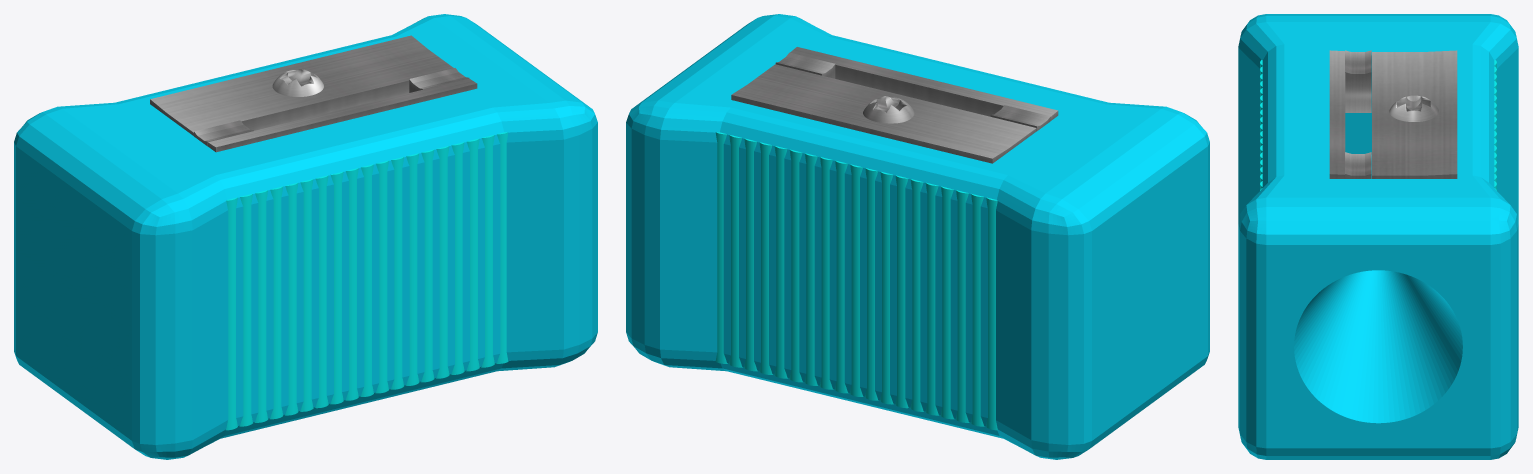
The model's file is sharpener.glb.
The picture shows the model from 3 angles, left to right: view 1: azimuth 30°, elevation 25°; view 2: azimuth 150°, elevation 25°; view 3: azimuth 270°, elevation 25°; orthographic projection. The views are drawn at different scales.
Parts seen in each view (by area): view 1: Roundcube.001, Cylinder.001, Cube, Sphere, Cube.002, Cube.001; view 2: Roundcube.001, Cylinder.002, Cube, Sphere, Cube.002, Cube.001; view 3: Roundcube.001, Cube, Cube.001, Sphere, Cube.002, Cylinder.001, Cylinder.002.
Part boxes in pixels (<box>): Roundcube.001: <box>14,14,597,459</box>; Cylinder.001: <box>226,132,508,430</box>; Cube: <box>150,35,477,152</box>; Sphere: <box>272,69,323,96</box>; Cube.002: <box>409,68,469,92</box>; Cube.001: <box>194,120,253,146</box>; Roundcube.001: <box>626,14,1209,459</box>; Cylinder.002: <box>715,132,997,430</box>; Cube: <box>731,47,1058,163</box>; Sphere: <box>863,96,914,123</box>; Cube.002: <box>775,52,835,78</box>; Cube.001: <box>990,105,1050,130</box>; Roundcube.001: <box>1238,14,1518,459</box>; Cube: <box>1329,50,1457,178</box>; Cube.001: <box>1345,50,1371,112</box>; Sphere: <box>1389,95,1438,121</box>; Cube.002: <box>1345,152,1371,178</box>; Cylinder.001: <box>1260,60,1262,190</box>; Cylinder.002: <box>1494,60,1496,190</box>.
Size of the model in its own units: 2.18 by 1.25 by 1.18.
4 materials, 2 textured.
